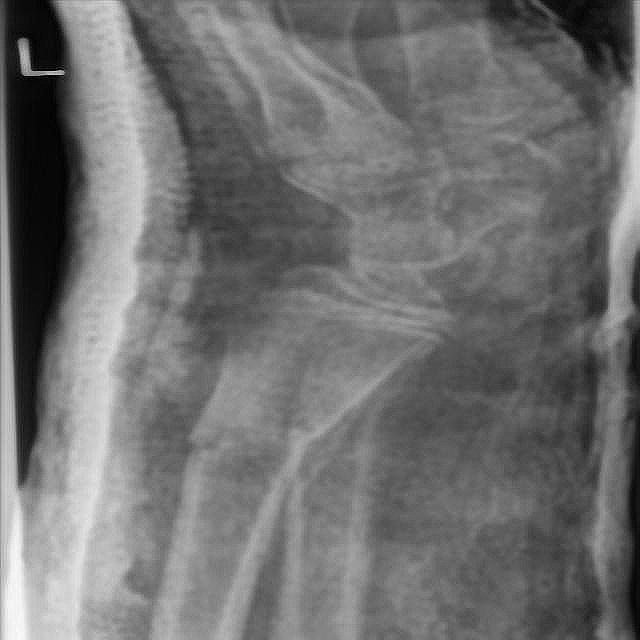bone: (184, 406, 350, 462)
